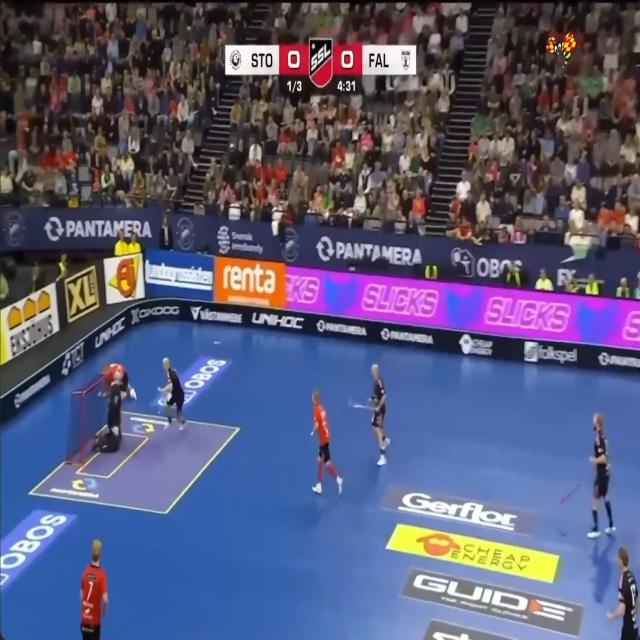player: (587, 414, 615, 539), (312, 390, 342, 493), (607, 547, 640, 639), (80, 539, 108, 639), (93, 371, 127, 452), (368, 363, 390, 466), (158, 358, 185, 430), (102, 363, 136, 399)
stick: (560, 482, 582, 504), (348, 399, 371, 409)
